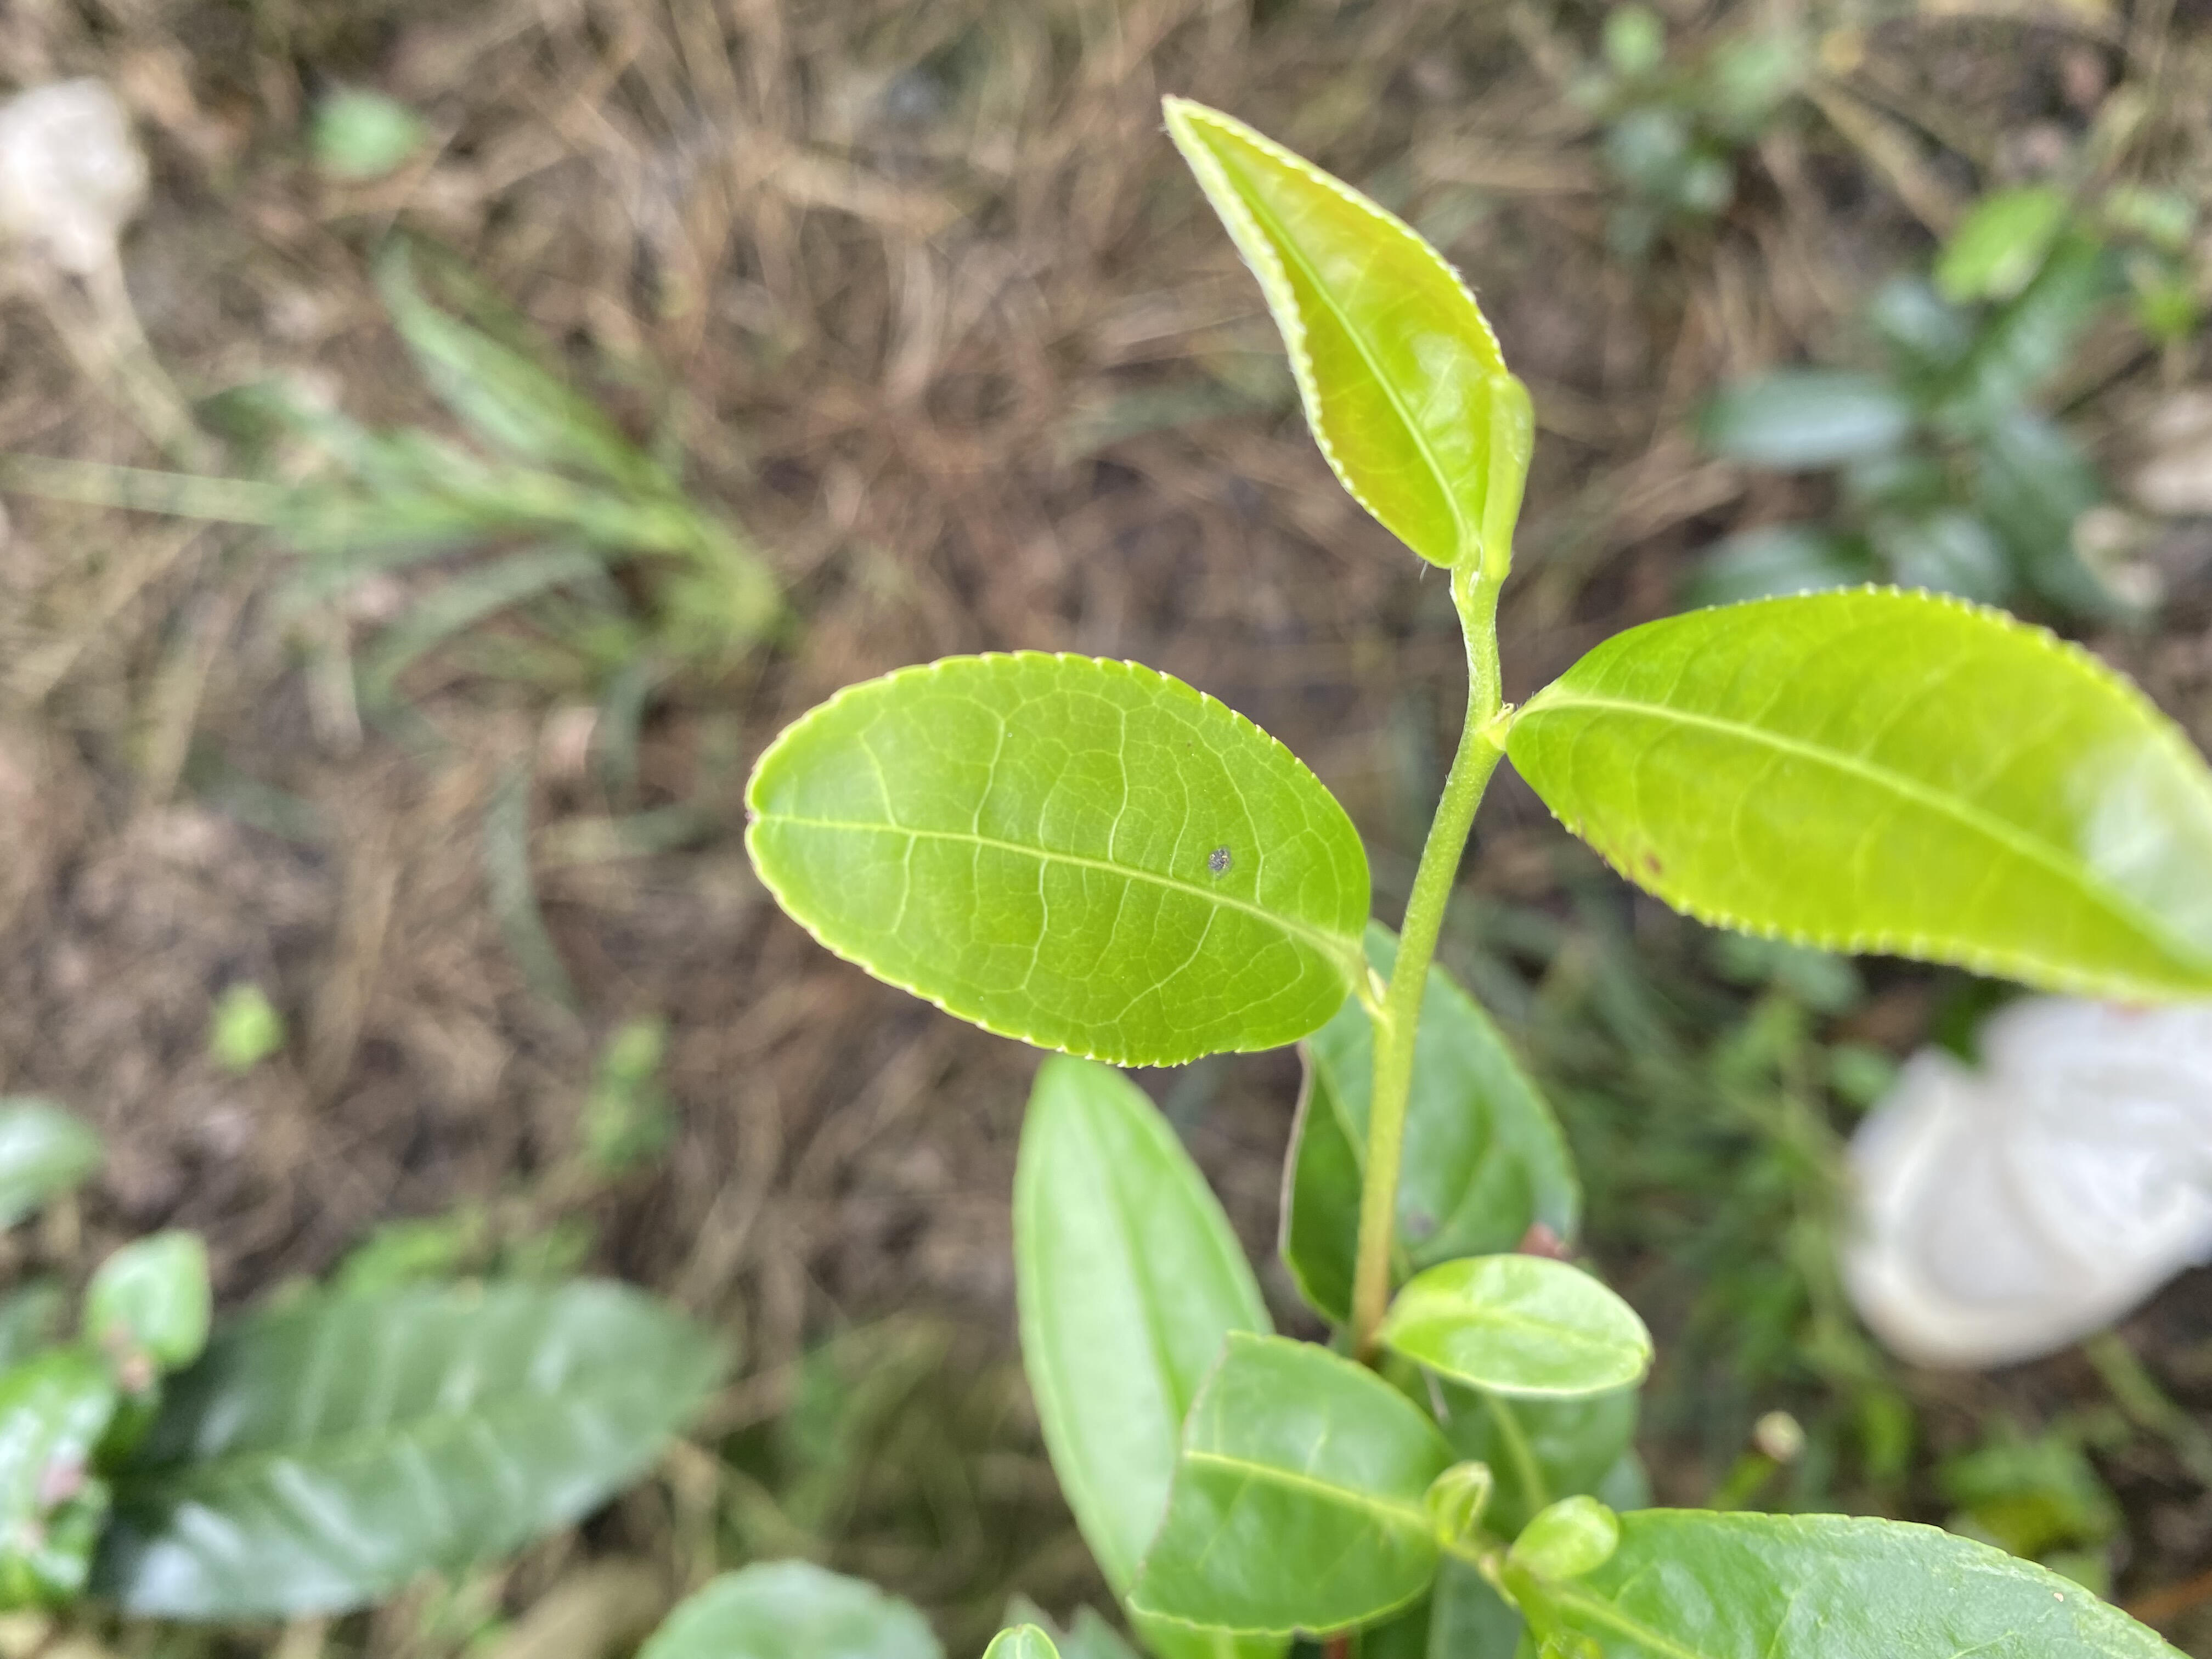chihuo_high: (1125, 1328, 1453, 1636)
healthy: (1162, 92, 1514, 561)
tanju_low: (1512, 579, 2212, 1004), (742, 647, 1374, 1072)
